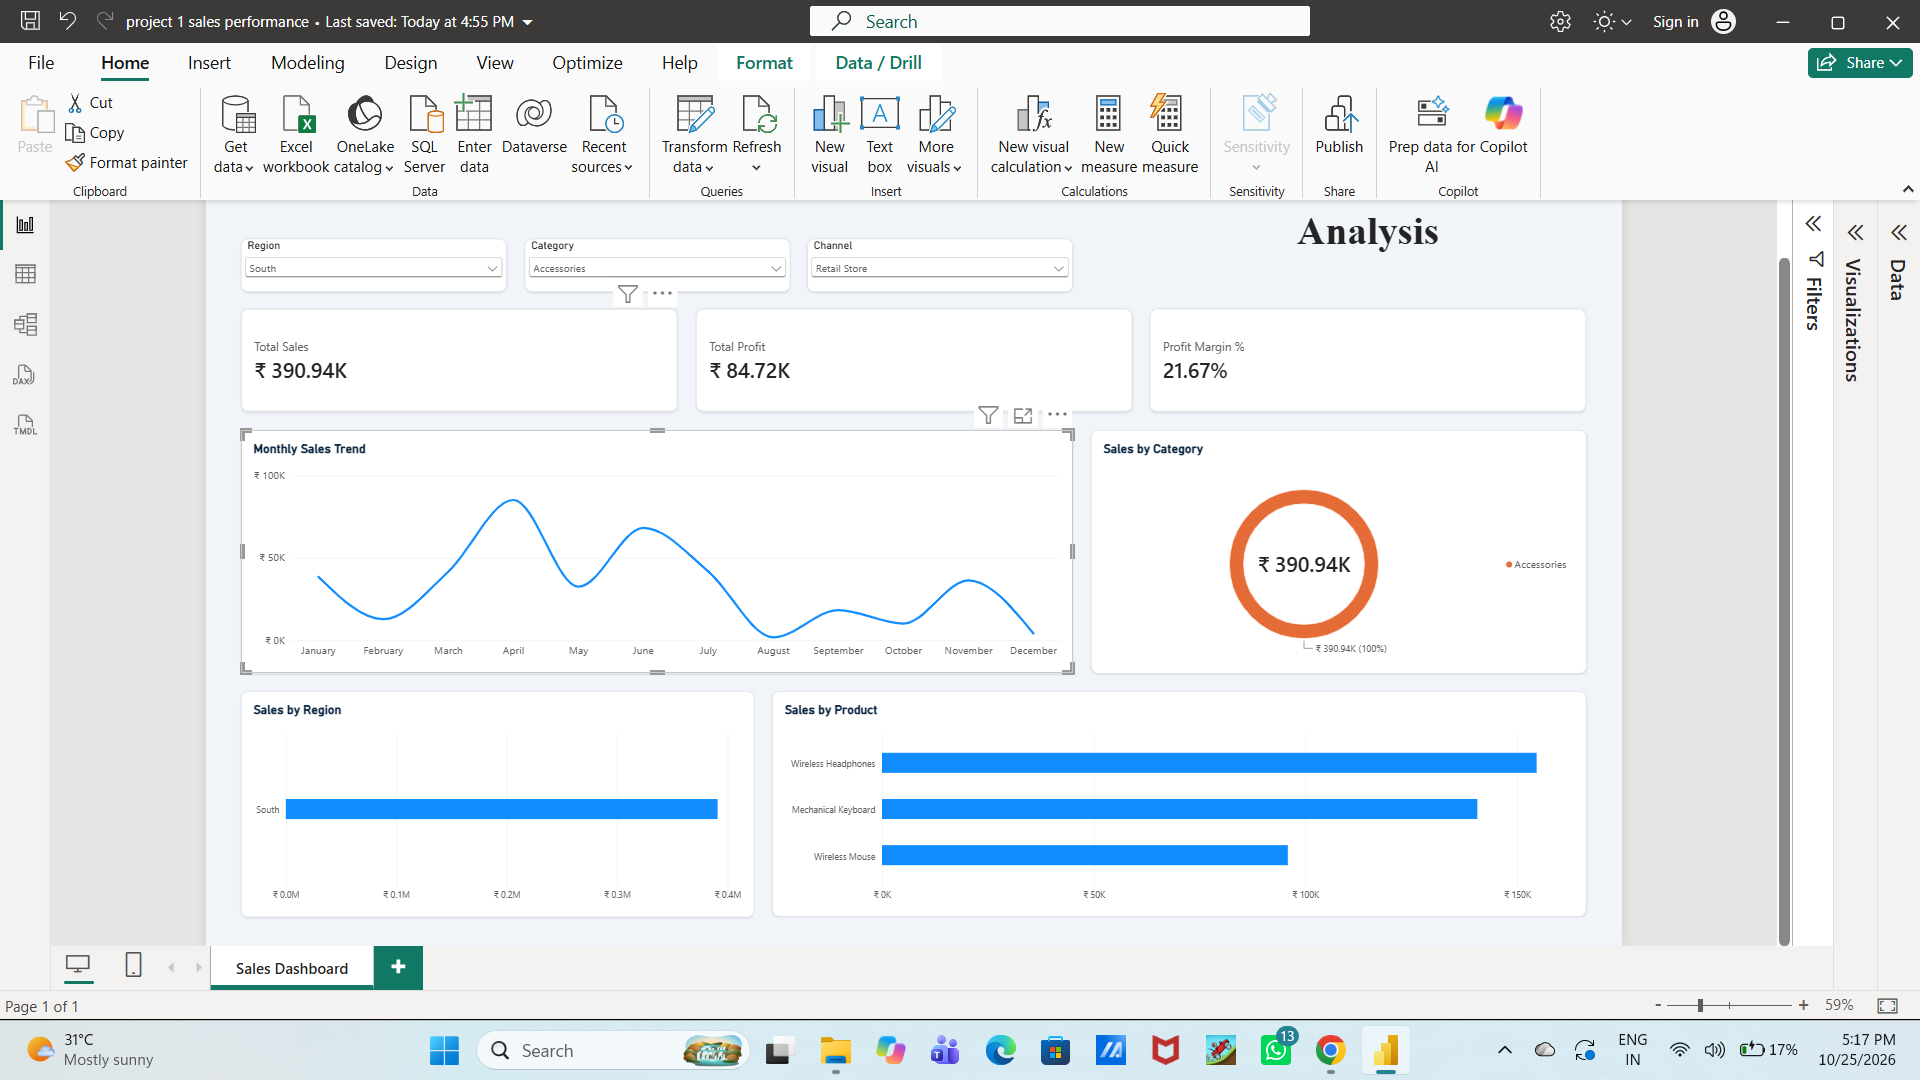

Layout of this report page (visuals, bound fields, positions):
{"tool":"powerbi","page":{"name":"Sales Dashboard","canvas":[1920,1080],"ordinal":0},"visuals":[{"type":"slicer","fields":{"Values":["Raw_Data.Region"]},"box":[48,120,360,72],"z":0},{"type":"slicer","fields":{"Values":["Raw_Data.Category"]},"box":[432,120,360,72],"z":1000},{"type":"slicer","fields":{"Values":["Raw_Data.Channel"]},"box":[816,120,360,72],"z":2000},{"type":"cardVisual","fields":{"Data":["Raw_Data.Total Sales"]},"box":[48,216,592,140],"z":3000},{"type":"cardVisual","fields":{"Data":["Raw_Data.Total Profit"]},"box":[664,216,592,140],"z":4000},{"type":"cardVisual","fields":{"Data":["Raw_Data.Profit Margin %"]},"box":[1280,216,592,140],"z":5000},{"type":"lineChart","title":"Monthly Sales Trend","fields":{"Category":["Raw_Data.Order Date.Variation.Date Hierarchy.Month"],"Y":["Raw_Data.Total Sales"]},"box":[48,380,1128,330],"z":6000},{"type":"donutChart","title":"Sales by Category","fields":{"Category":["Raw_Data.Category"],"Y":["Raw_Data.Total Sales"]},"box":[1200,380,672,330],"z":7000},{"type":"clusteredBarChart","title":"Sales by Region","fields":{"Category":["Raw_Data.Region"],"Y":["Raw_Data.Total Sales"]},"box":[48,734,696,306],"z":8000},{"type":"clusteredBarChart","title":"Sales by Product","fields":{"Category":["Raw_Data.Product"],"Y":["Raw_Data.Total Sales"]},"box":[767.3,734.7,1103.9,305.8],"z":9000},{"type":"textbox","box":[1280,18,592,150],"z":10000}]}

Visuals, with their boxes on the page's 1920x1080 design canvas (x1, y1, x2, y2). These are canvas units, not pixel positions in the 1920x1080 screenshot, which may show the page scaled, cropped or inside an application window:
slicer - Raw_Data.Region: bbox=(48, 120, 408, 192)
slicer - Raw_Data.Category: bbox=(432, 120, 792, 192)
slicer - Raw_Data.Channel: bbox=(816, 120, 1176, 192)
cardVisual - Raw_Data.Total Sales: bbox=(48, 216, 640, 356)
cardVisual - Raw_Data.Total Profit: bbox=(664, 216, 1256, 356)
cardVisual - Raw_Data.Profit Margin %: bbox=(1280, 216, 1872, 356)
"Monthly Sales Trend" lineChart: bbox=(48, 380, 1176, 710)
"Sales by Category" donutChart: bbox=(1200, 380, 1872, 710)
"Sales by Region" clusteredBarChart: bbox=(48, 734, 744, 1040)
"Sales by Product" clusteredBarChart: bbox=(767, 735, 1871, 1040)
textbox: bbox=(1280, 18, 1872, 168)
